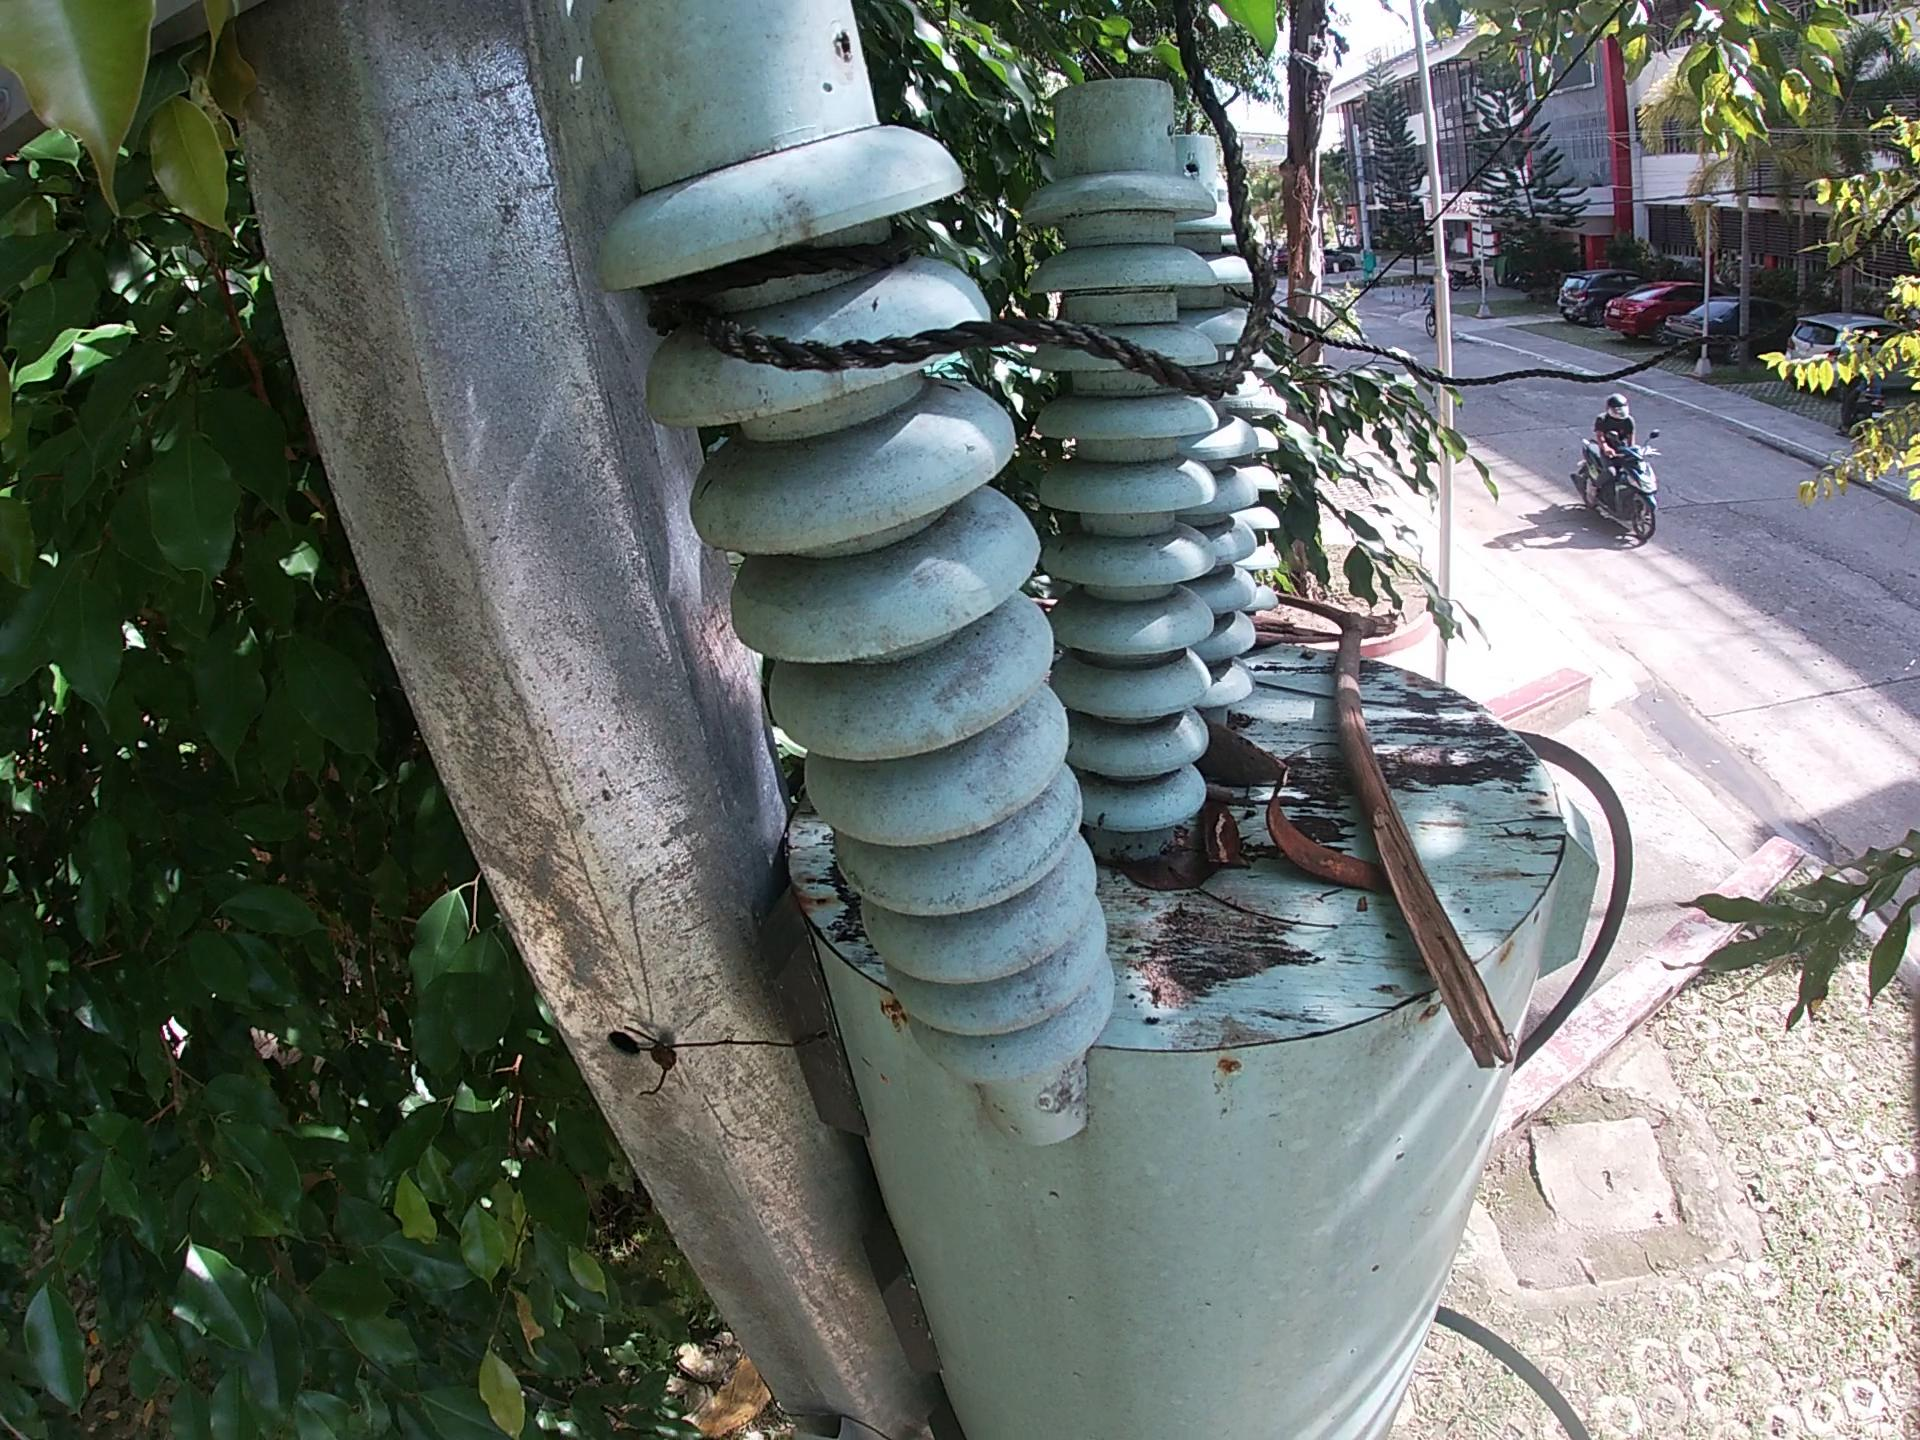leaf: (1110, 838, 1215, 892)
mahogany fruit: (1253, 799, 1386, 895), (1206, 722, 1312, 805)
tree branch: (1270, 590, 1557, 1080), (1200, 888, 1333, 950), (1262, 675, 1426, 709), (1202, 793, 1255, 895), (1259, 622, 1342, 653), (1033, 591, 1058, 614)
